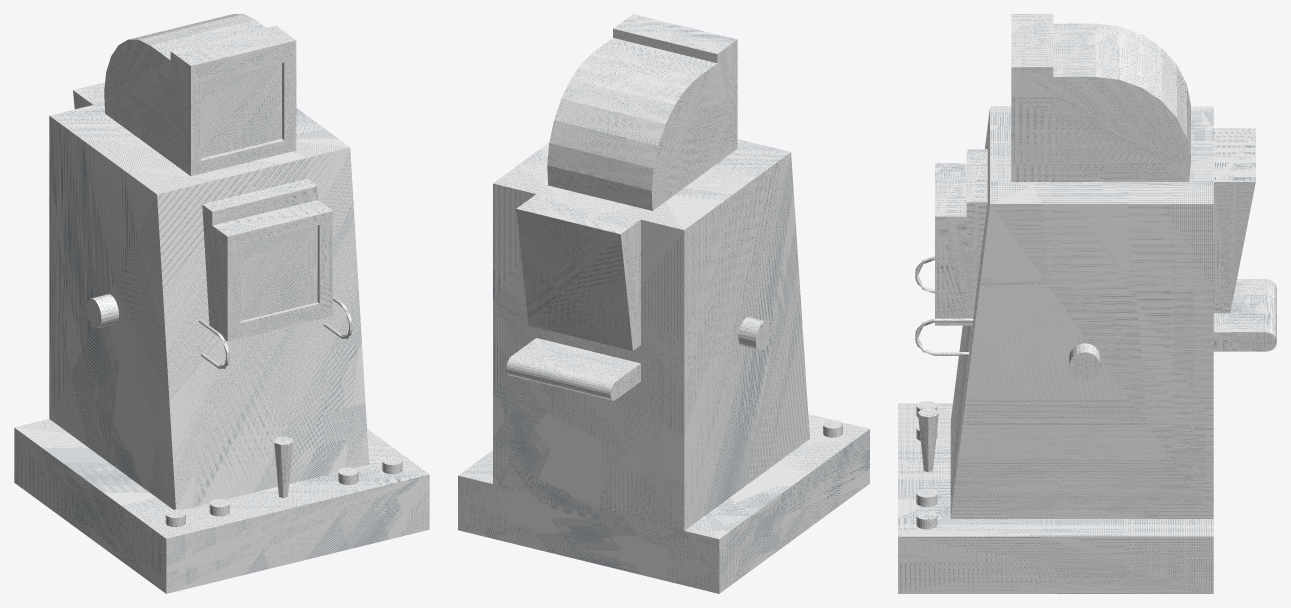
3 views of the same model, side by side, from view 1: azimuth 30°, elevation 25°; view 2: azimuth 150°, elevation 25°; view 3: azimuth 270°, elevation 25° (orthographic). The views are drawn at different scales.
Parts seen in each view (by area): view 1: FamilyGeomCombination_3062, M5510_-_Camera__Fundus__Digital (×6), FamilyGeomCombination_3054, FamilyGeomCombination_3063; view 2: FamilyGeomCombination_3062, M5510_-_Camera__Fundus__Digital (×4), FamilyGeomCombination_3054; view 3: FamilyGeomCombination_3062, M5510_-_Camera__Fundus__Digital (×6), FamilyGeomCombination_3054, FamilyGeomCombination_3063.
Boxes of the visible parts, <box> form: FamilyGeomCombination_3062: <box>49,102,369,510</box>; M5510_-_Camera__Fundus__Digital (×6): <box>14,63,429,593</box>; FamilyGeomCombination_3054: <box>104,14,296,176</box>; FamilyGeomCombination_3063: <box>202,178,332,341</box>; FamilyGeomCombination_3062: <box>493,139,809,530</box>; M5510_-_Camera__Fundus__Digital (×4): <box>458,194,869,593</box>; FamilyGeomCombination_3054: <box>547,14,737,210</box>; FamilyGeomCombination_3062: <box>950,106,1213,518</box>; M5510_-_Camera__Fundus__Digital (×6): <box>898,128,1276,593</box>; FamilyGeomCombination_3054: <box>1011,14,1190,181</box>; FamilyGeomCombination_3063: <box>935,149,987,325</box>.
Bounding box in the file's own units: 15 × 18 × 26.
